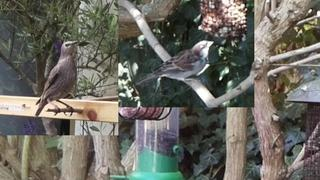sparrow: (136, 40, 214, 87)
starling: (35, 40, 78, 117)
